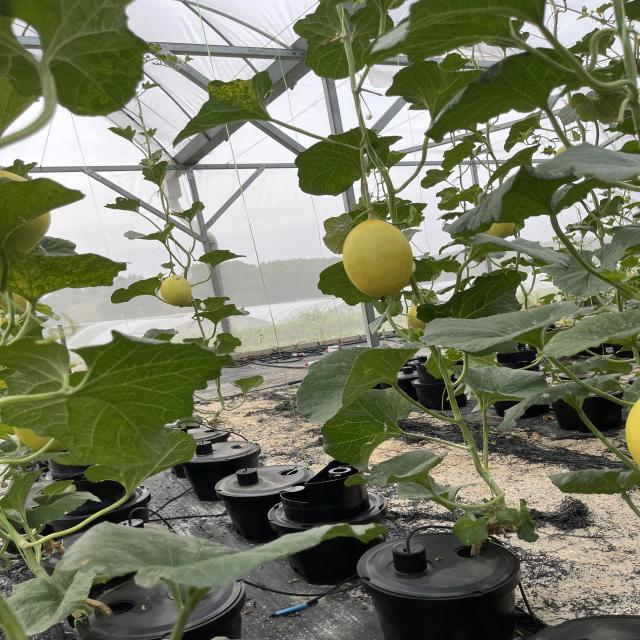CMV: (310, 214, 352, 254)
downy mildew: (178, 71, 282, 146), (348, 446, 450, 494)
healthy: (296, 345, 423, 424), (293, 125, 406, 196), (5, 568, 101, 636), (417, 270, 536, 324), (384, 59, 484, 120), (460, 367, 548, 405), (565, 88, 627, 125), (433, 139, 476, 174)
